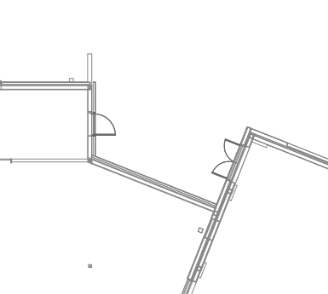door: (88, 110, 117, 138)
double door: (208, 136, 249, 186)
window: (184, 232, 215, 287)
